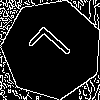L: (27, 24, 80, 75)
